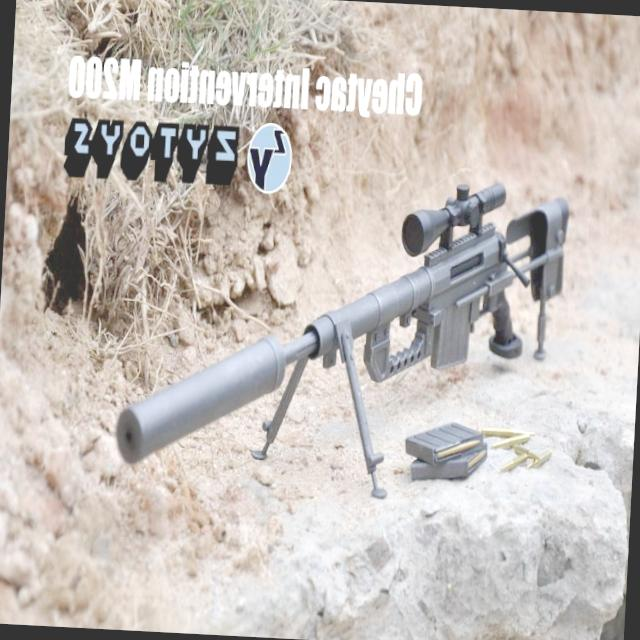rifle: (110, 193, 570, 494)
